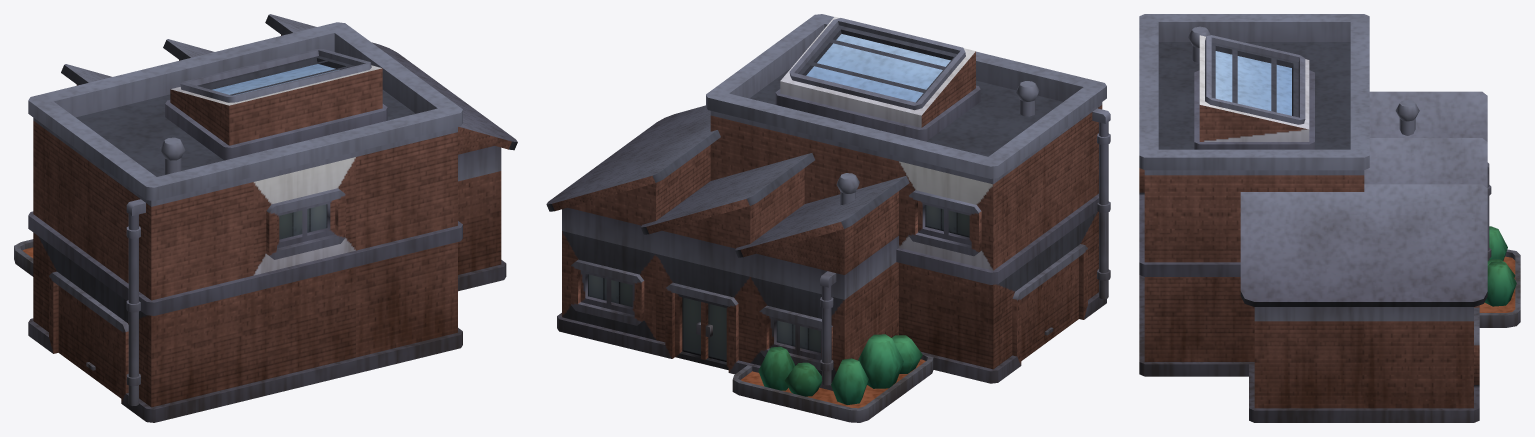
The model's file is building-t-brown.glb.
The picture shows the model from 3 angles, left to right: view 1: azimuth 30°, elevation 25°; view 2: azimuth 150°, elevation 25°; view 3: azimuth 270°, elevation 25°; orthographic projection. The views are drawn at different scales.
Visible parts, largest first — view 1: building-t; view 2: building-t; view 3: building-t.
Boxes of the visible parts, <box> form: building-t: <box>14,14,517,422</box>; building-t: <box>546,14,1110,422</box>; building-t: <box>1139,14,1520,422</box>.
Size of the model in its own units: 1.72 by 1.01 by 1.39.
1 material, 1 textured.
